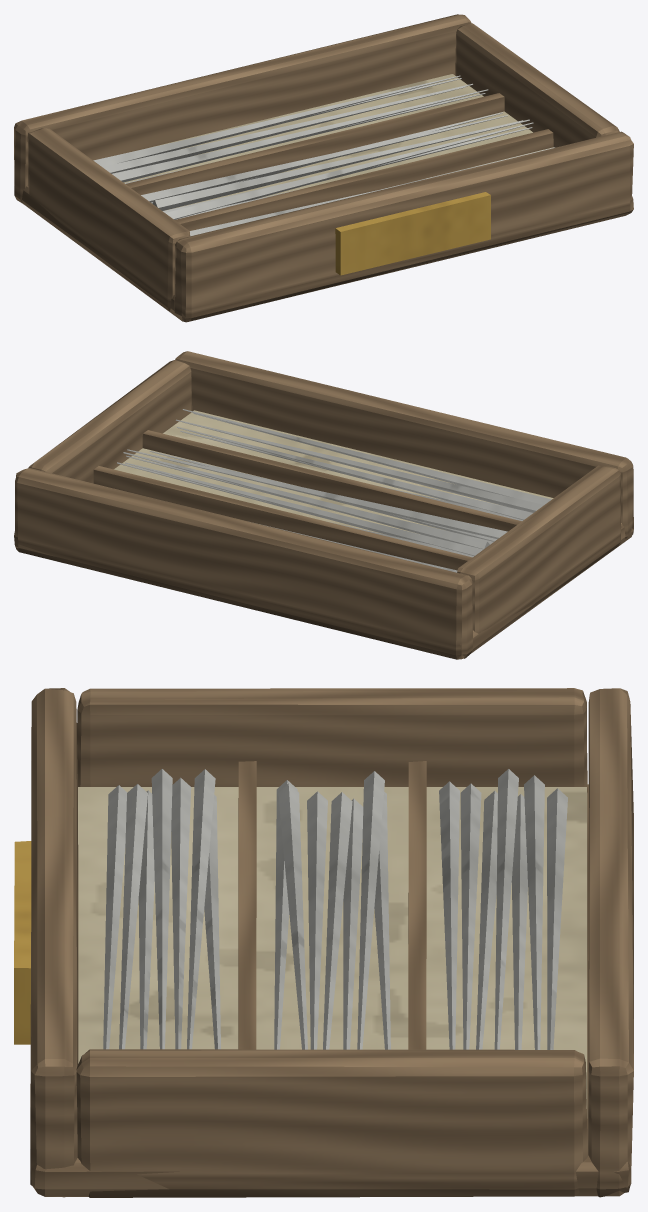
Rendered from needle_tray.glb.
3 views of the same model, one above another, from view 1: azimuth 30°, elevation 25°; view 2: azimuth 150°, elevation 25°; view 3: azimuth 270°, elevation 25° (orthographic). The views are drawn at different scales.
Visible parts, largest first — view 1: NeedleTray; view 2: NeedleTray; view 3: NeedleTray.
Boxes of the visible parts, <box> form: NeedleTray: <box>14,14,633,322</box>; NeedleTray: <box>14,351,633,659</box>; NeedleTray: <box>14,688,633,1197</box>.
Size of the model in its own units: 0.8433 by 0.1438 by 0.5788.
4 materials, 4 textured.
